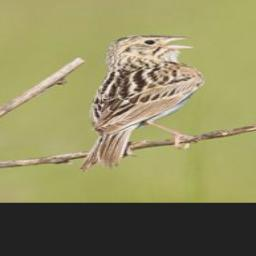Sparrow: (77, 33, 207, 173)
